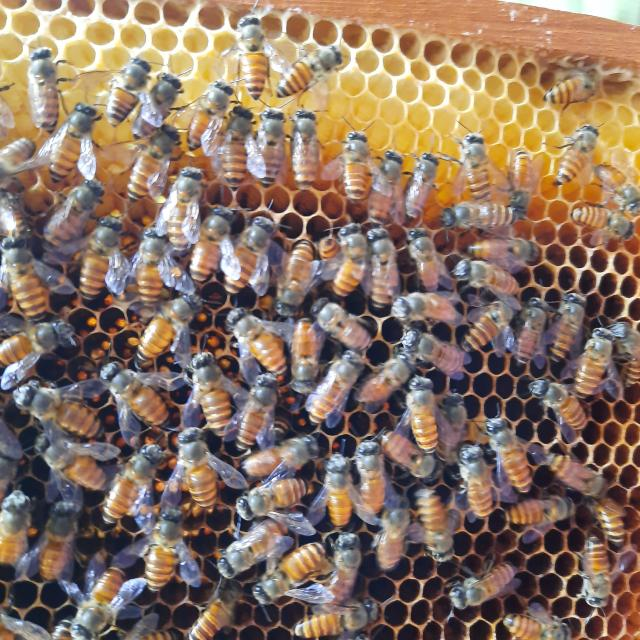honeybee: (515, 30, 640, 102), (180, 344, 267, 445), (79, 549, 158, 640), (145, 66, 214, 169), (286, 120, 351, 227), (278, 41, 372, 109), (103, 351, 175, 432), (321, 434, 376, 539), (212, 530, 304, 592), (141, 289, 225, 353), (0, 323, 79, 391), (146, 509, 218, 582), (167, 434, 248, 498), (357, 434, 417, 520), (537, 434, 614, 501), (190, 582, 278, 640), (408, 387, 466, 475), (118, 120, 194, 186), (468, 186, 546, 250), (432, 130, 516, 188), (142, 240, 206, 314), (0, 268, 77, 326), (402, 148, 460, 225), (441, 445, 498, 522), (308, 312, 402, 358), (411, 486, 466, 564), (36, 374, 114, 428), (567, 186, 640, 242), (0, 483, 53, 558), (381, 355, 462, 402), (524, 372, 608, 417), (55, 428, 114, 492), (477, 406, 524, 486), (265, 244, 325, 302), (376, 496, 419, 576), (578, 325, 618, 411), (332, 216, 370, 304), (218, 19, 261, 96), (550, 126, 610, 178), (244, 107, 286, 180), (500, 486, 567, 530), (545, 289, 597, 344), (402, 261, 449, 321), (244, 306, 297, 359), (246, 214, 282, 291), (36, 500, 80, 562), (45, 107, 96, 160), (366, 236, 408, 300), (442, 564, 500, 608), (422, 218, 464, 278), (325, 607, 398, 640), (319, 550, 368, 597), (199, 124, 246, 171), (584, 496, 627, 546), (276, 539, 317, 590), (336, 128, 372, 186), (308, 364, 362, 402), (192, 92, 256, 124), (240, 402, 286, 445), (21, 66, 60, 116), (473, 257, 524, 295), (470, 282, 504, 338), (100, 56, 150, 94), (169, 176, 207, 224), (514, 297, 546, 353), (423, 323, 458, 374), (419, 359, 452, 413), (520, 616, 592, 640), (287, 316, 327, 359), (368, 150, 404, 197), (49, 182, 86, 227), (94, 220, 124, 274), (255, 475, 325, 496), (614, 295, 640, 351), (0, 137, 24, 197), (212, 205, 229, 287), (575, 560, 614, 594), (261, 439, 304, 462), (96, 109, 169, 111)
